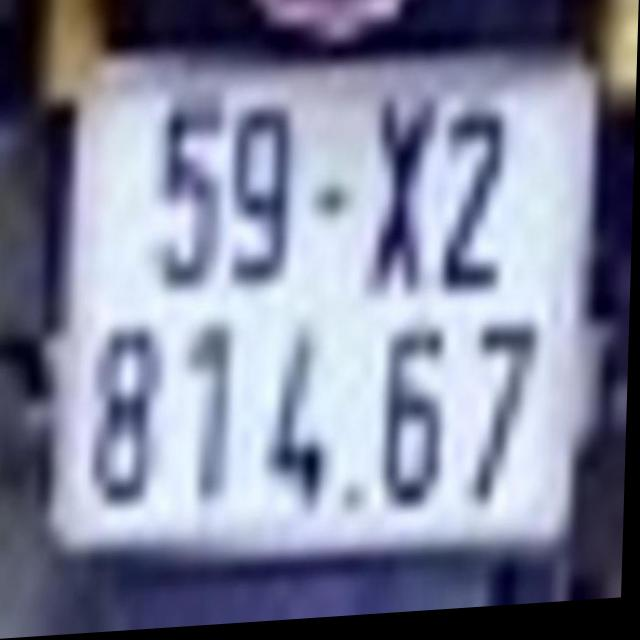1: (188, 322, 238, 513)
2: (443, 102, 525, 304)
4: (273, 318, 343, 536)
5: (154, 102, 226, 301)
6: (374, 317, 461, 528)
7: (465, 321, 553, 523)
8: (88, 328, 165, 517)
9: (226, 100, 300, 296)
X: (353, 91, 442, 308)
